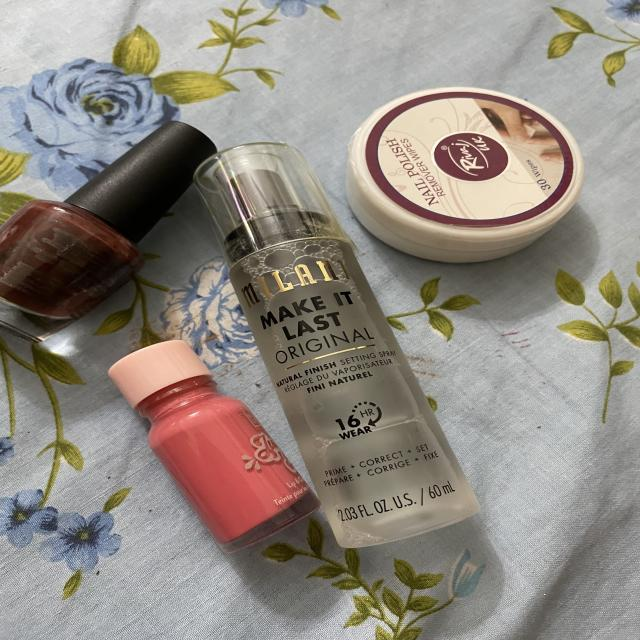Tint: (56, 330, 316, 548)
nail polish: (0, 113, 227, 338)
nail polish remover: (341, 82, 607, 276)
setting spray: (202, 142, 512, 557)
